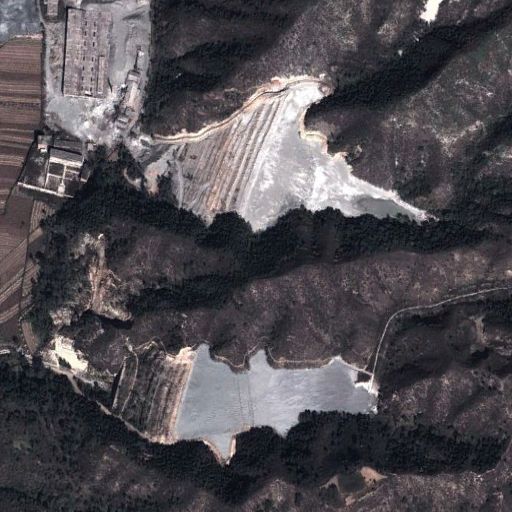tp: (166, 84, 430, 236), (109, 342, 379, 464)
